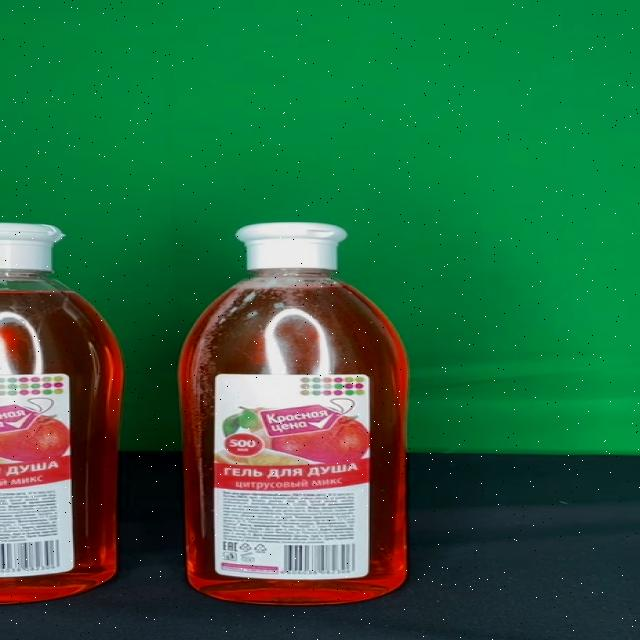Bottle: (183, 222, 407, 604)
Cap: (236, 223, 348, 270)
